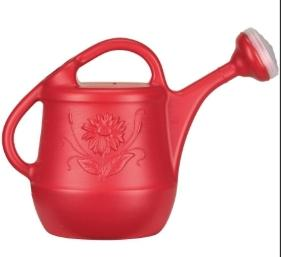ARROSOIR: (0, 1, 278, 257)
